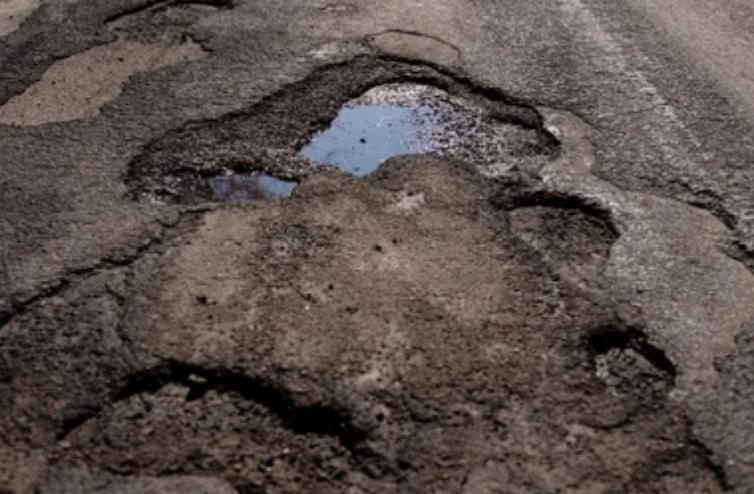water accumulation: (286, 98, 464, 178), (206, 168, 298, 202)
